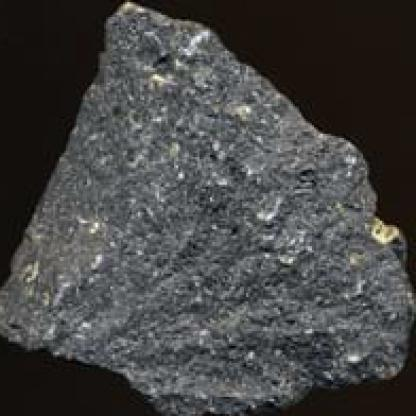Igneous_Basalt: (2, 0, 412, 414)
